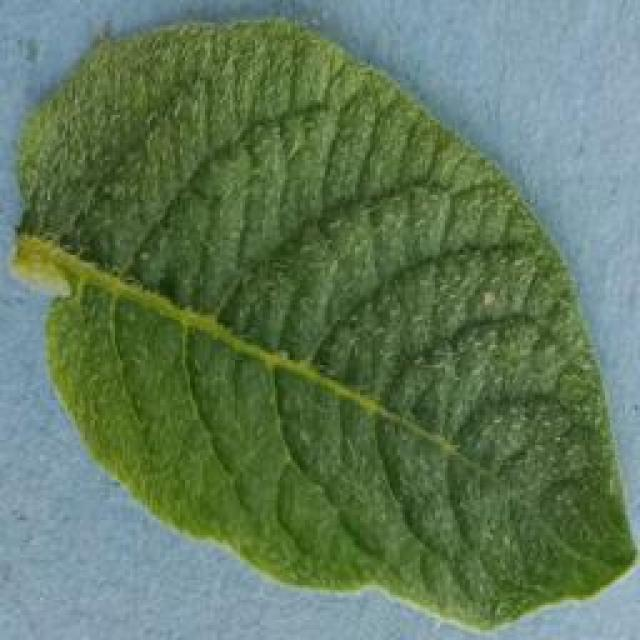Potato_Healthy: (2, 6, 633, 634)
